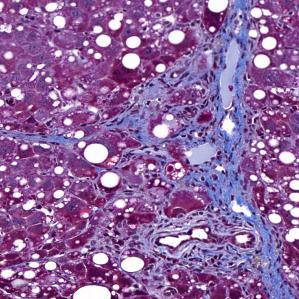fibrosis: (149, 199, 290, 281), (157, 63, 252, 171)
